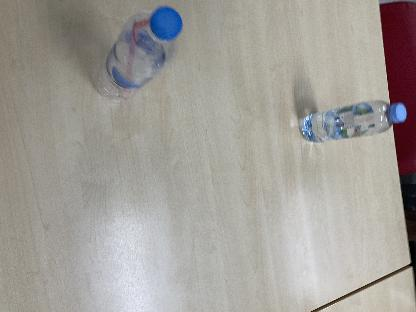Plastic Bottle: (94, 5, 184, 106), (300, 99, 408, 141)
